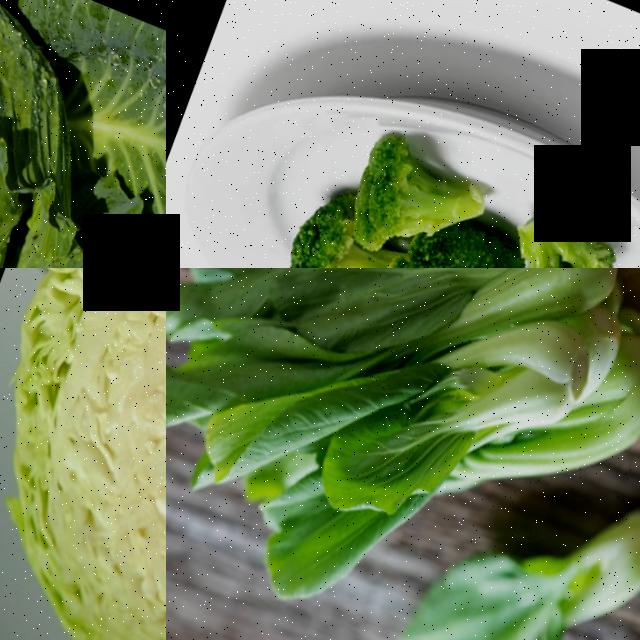bok choy: (250, 274, 620, 640), (231, 268, 595, 363)
broccoli: (319, 112, 509, 268), (477, 191, 638, 268), (262, 202, 393, 268), (353, 221, 504, 268)
cabbage: (0, 268, 166, 640), (0, 17, 56, 268)
